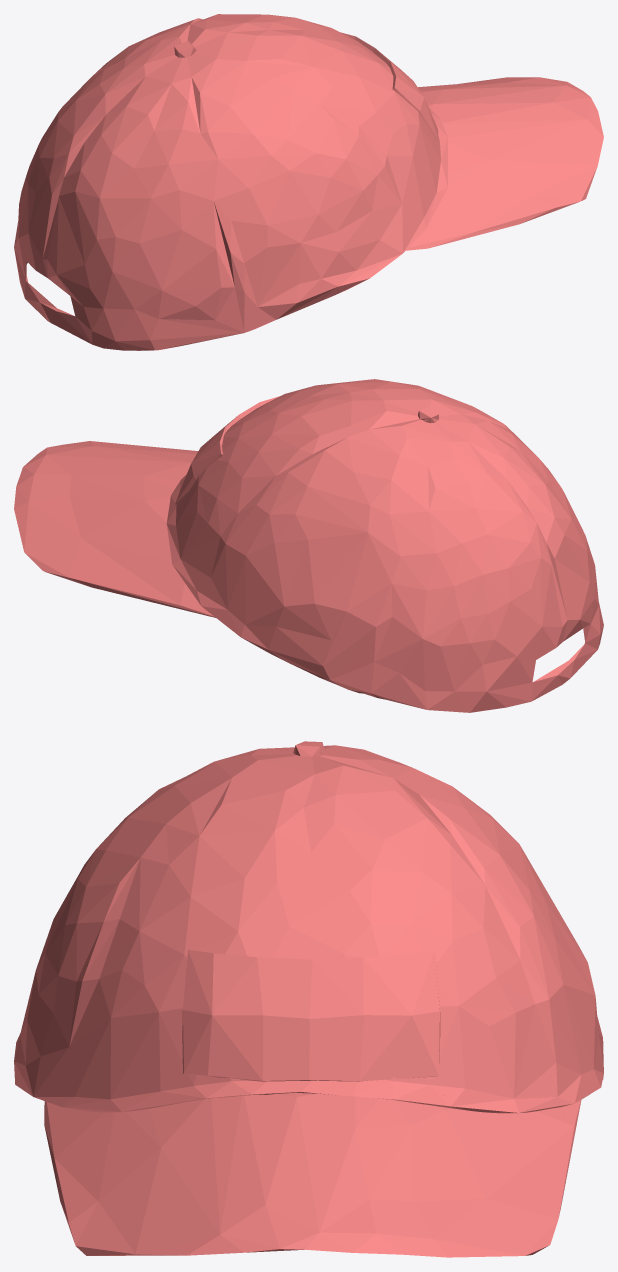
Rendered from hatfbx_2.fbx.
3 renders of one model, top to bottom at view 1: azimuth 30°, elevation 25°; view 2: azimuth 150°, elevation 25°; view 3: azimuth 270°, elevation 25°, orthographic. The views are drawn at different scales.
Parts seen in each view (by area): view 1: Baseball_hat1; view 2: Baseball_hat1; view 3: Baseball_hat1.
Boxes of the visible parts, x1,y1,x2,y2 form: Baseball_hat1: (14, 14, 603, 350); Baseball_hat1: (14, 379, 603, 712); Baseball_hat1: (14, 741, 603, 1257).
Bounding box in the file's own units: 27.95 × 12.13 × 17.56.
